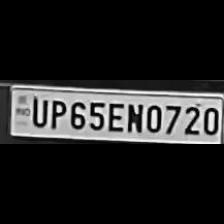0: (200, 102, 220, 136), (142, 101, 162, 133)
2: (180, 102, 200, 136)
5: (87, 99, 105, 131)
6: (66, 99, 86, 129)
7: (162, 100, 180, 134)
E: (106, 100, 124, 132)
N: (124, 100, 144, 132)
P: (46, 96, 66, 130)
U: (28, 95, 48, 127)
